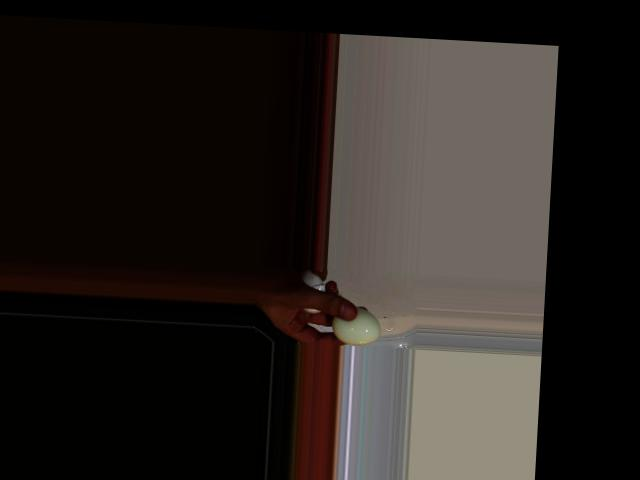egg: (331, 305, 380, 347)
